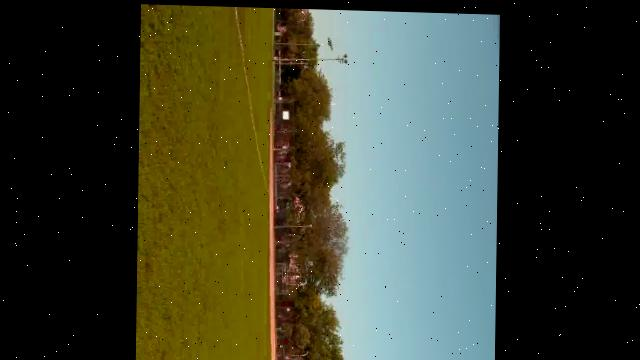drone: (323, 35, 336, 52)
